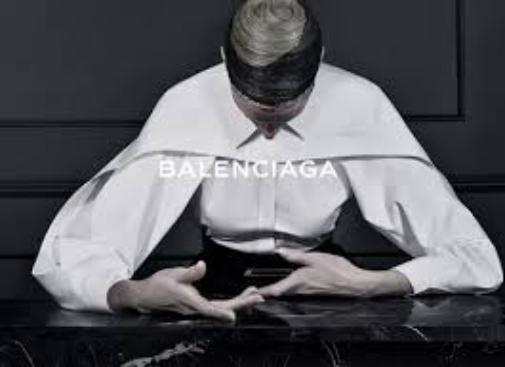BALENCIAGA: (156, 156, 339, 181)
